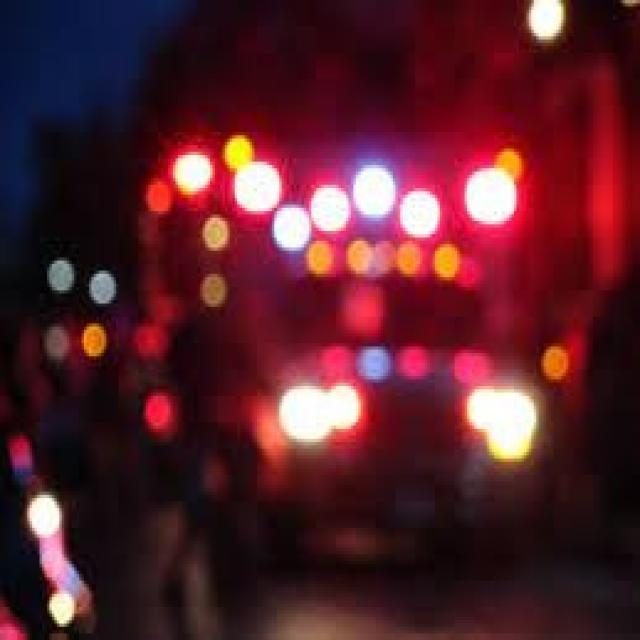ambulance: (127, 128, 572, 591)
